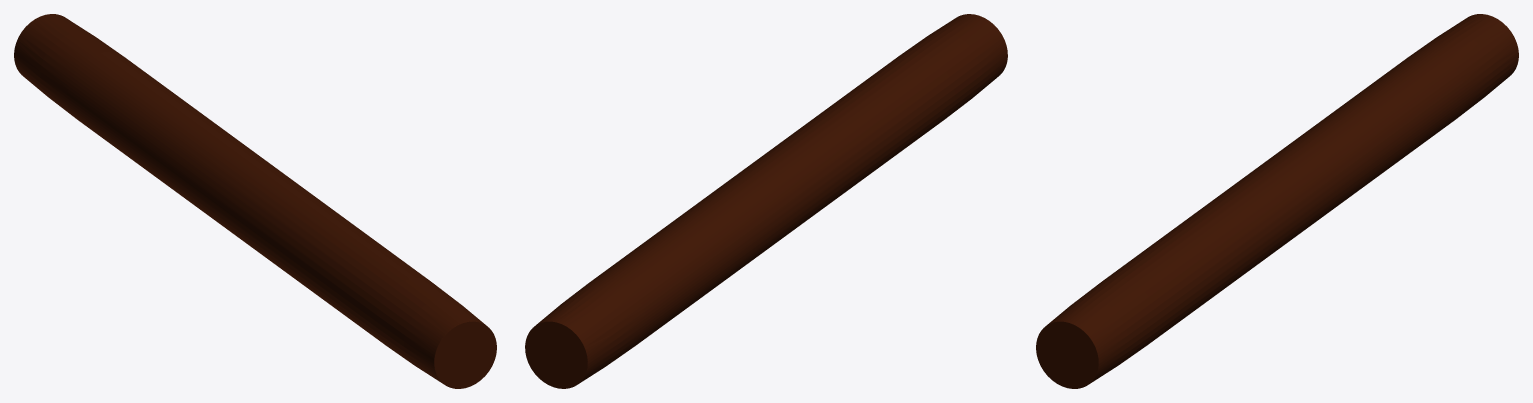
The model's file is stick.dae.
3 renders of one model, left to right at view 1: azimuth 30°, elevation 25°; view 2: azimuth 150°, elevation 25°; view 3: azimuth 330°, elevation 25°, orthographic.
Visible parts, largest first — view 1: stickFBXASC058Mesh; view 2: stickFBXASC058Mesh; view 3: stickFBXASC058Mesh.
Part boxes in pixels (bbox=[...]): stickFBXASC058Mesh: bbox=[14, 14, 496, 388]; stickFBXASC058Mesh: bbox=[525, 14, 1007, 388]; stickFBXASC058Mesh: bbox=[1036, 14, 1518, 388].
Bounding box in the file's own units: 0.9778 × 0.9787 × 10.49.
